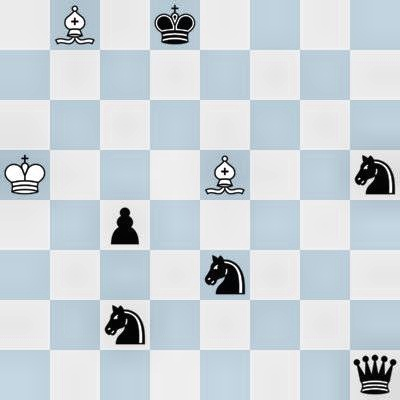black-king: (150, 0, 200, 50)
black-knight: (350, 150, 400, 200), (200, 250, 250, 300), (100, 300, 150, 350)
black-pawn: (100, 200, 150, 250)
black-queen: (350, 350, 400, 400)
white-bishop: (50, 0, 100, 50), (200, 150, 250, 200)
white-king: (0, 150, 50, 200)
